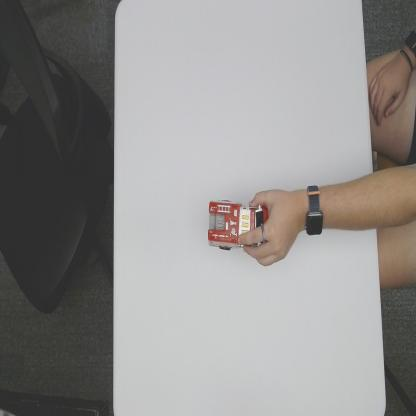Arm: (327, 159, 416, 235)
Firetruck: (207, 198, 269, 252)
Hand: (238, 190, 300, 268)
